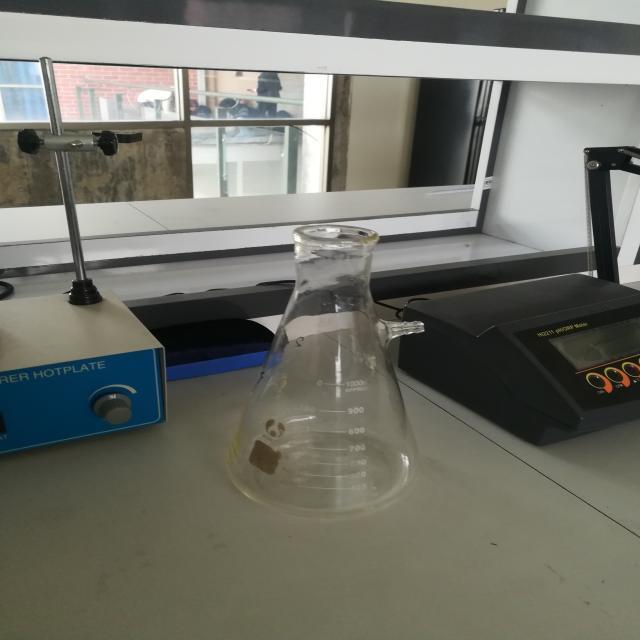Conical_Flask: (213, 202, 459, 547)
